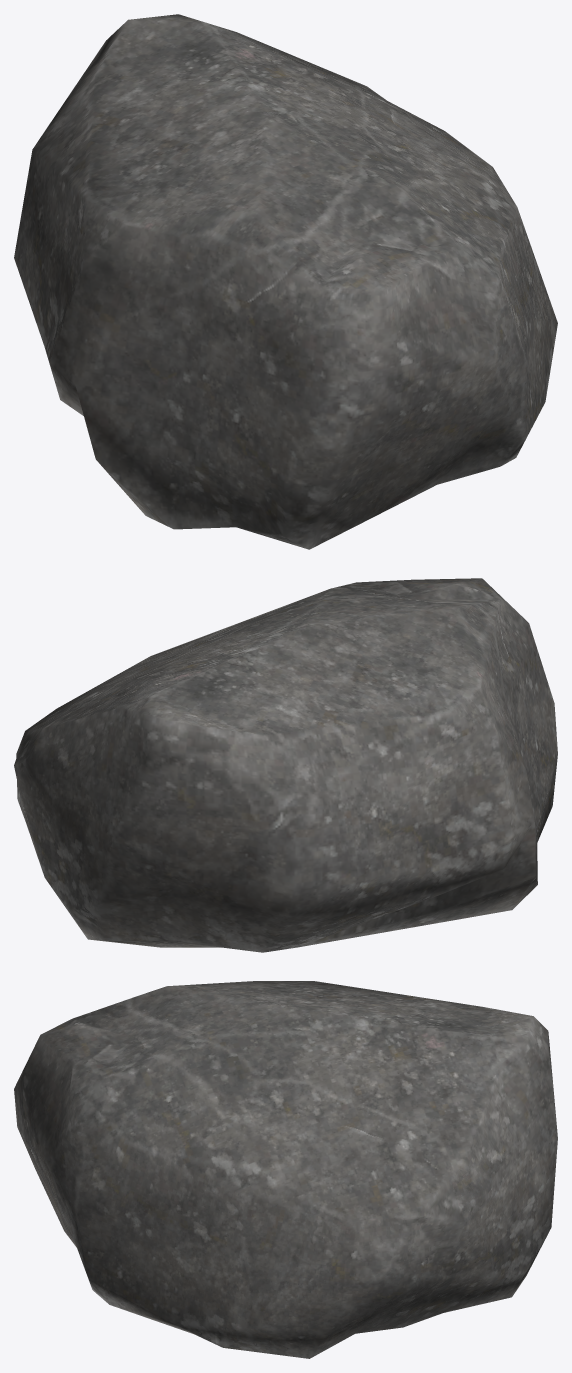
The model's file is objects_un_a_w23rock01_02_l2.gltf.
The picture shows the model from 3 angles, top to bottom: view 1: azimuth 30°, elevation 25°; view 2: azimuth 150°, elevation 25°; view 3: azimuth 270°, elevation 25°; orthographic projection. The views are drawn at different scales.
Parts seen in each view (by area): view 1: um_objects_un_a_w23rock01_02_l2_model_lod0Shape:objects_un_a; view 2: um_objects_un_a_w23rock01_02_l2_model_lod0Shape:objects_un_a; view 3: um_objects_un_a_w23rock01_02_l2_model_lod0Shape:objects_un_a.
Part boxes in pixels (bbox=[...]): um_objects_un_a_w23rock01_02_l2_model_lod0Shape:objects_un_a: bbox=[14, 14, 557, 549]; um_objects_un_a_w23rock01_02_l2_model_lod0Shape:objects_un_a: bbox=[14, 578, 557, 952]; um_objects_un_a_w23rock01_02_l2_model_lod0Shape:objects_un_a: bbox=[14, 981, 557, 1358].
Size of what is drawn, in the model's own units: 4.11 by 2.47 by 4.63.
Materials: 2 (1 with a texture image).
